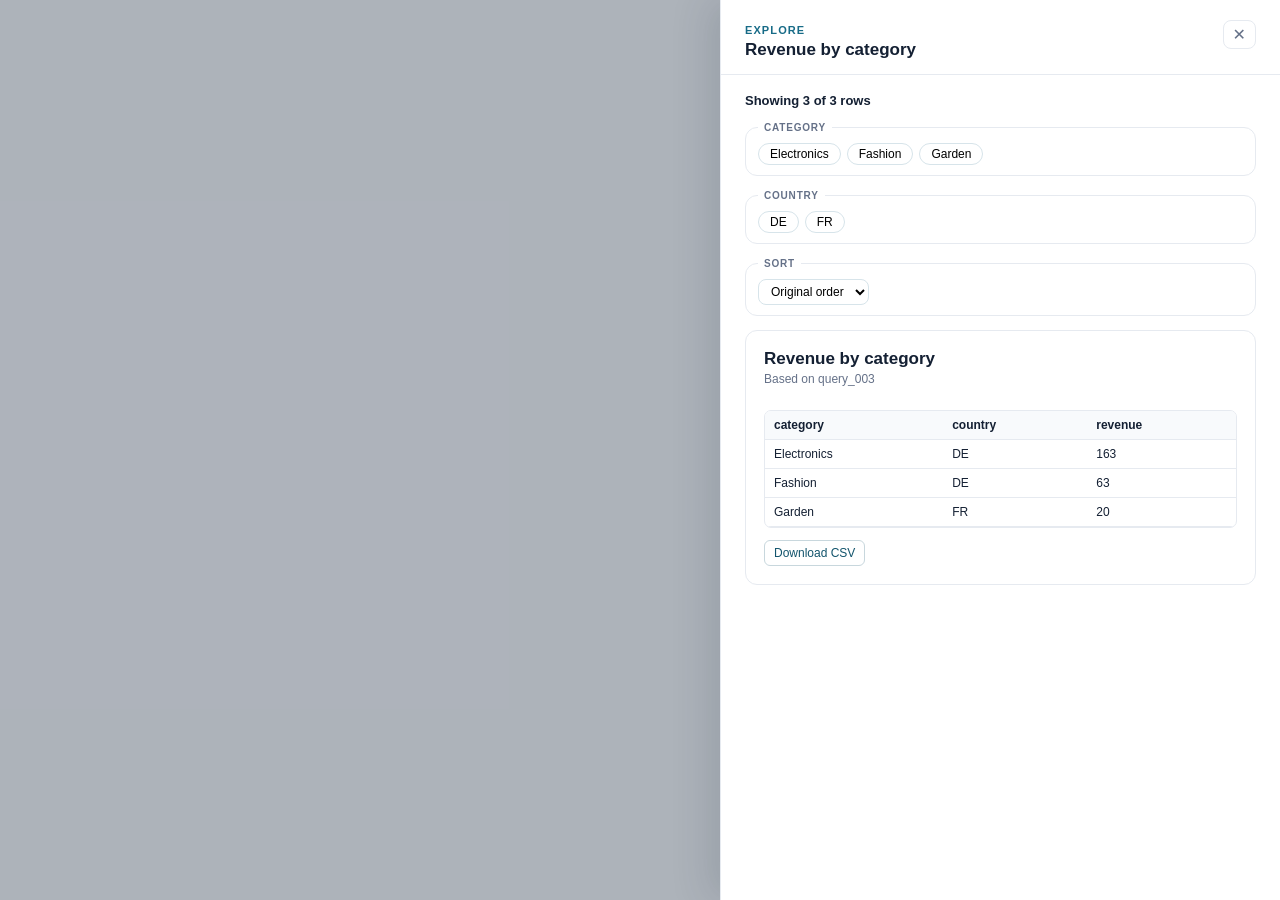
Test case: DisplayPanel › explains an empty result instead of showing a blank display
The width and height of the screenshot is (1280, 900).
# Electronics is sold in DE only, so pairing it with FR excludes everything.
Click the button "FR": (825, 222) [805,211,845,233]
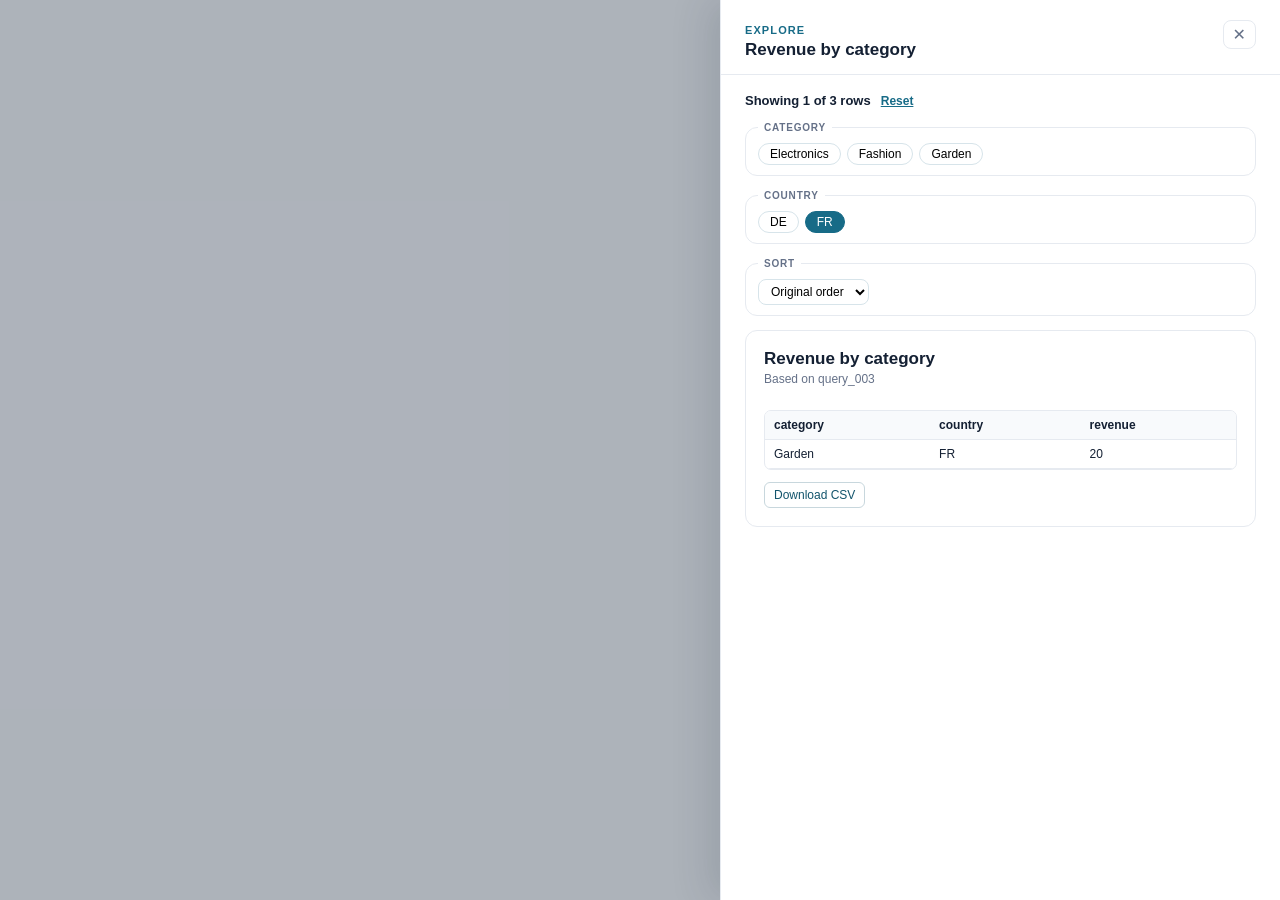
Click the button "Electronics": (799, 154) [758,143,841,165]
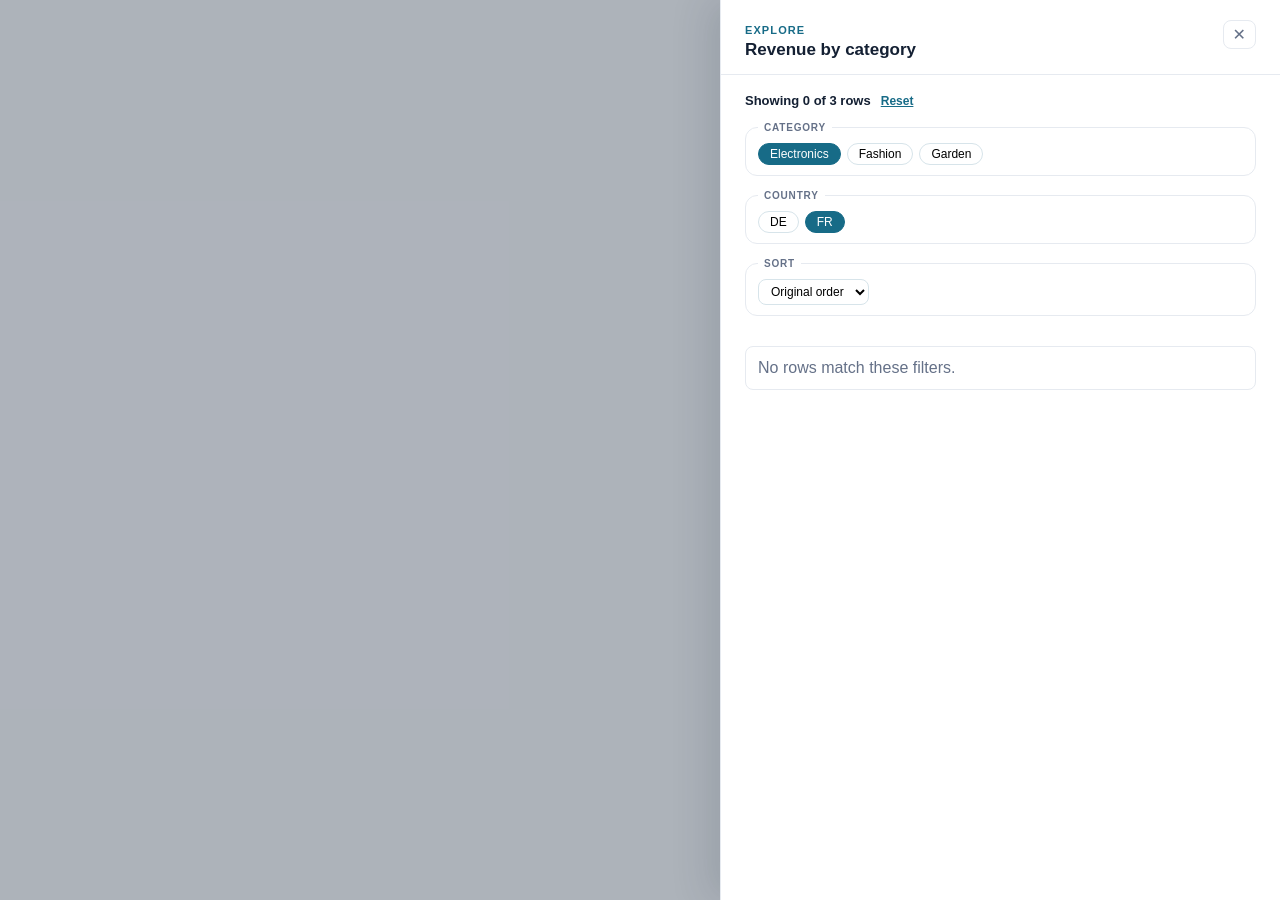
expect the text "No rows match these filters." is shown: met, box [745,346,1256,390]
expect the text "Showing 0 of 3 rows" is shown: met, box [745,93,913,108]
